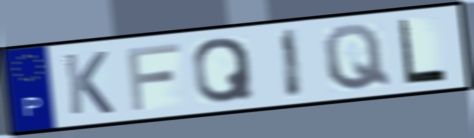F: (124, 40, 183, 113)
I: (279, 26, 306, 100)
K: (60, 49, 117, 118)
L: (396, 16, 449, 86)
Q: (320, 22, 394, 93), (191, 36, 257, 106)
